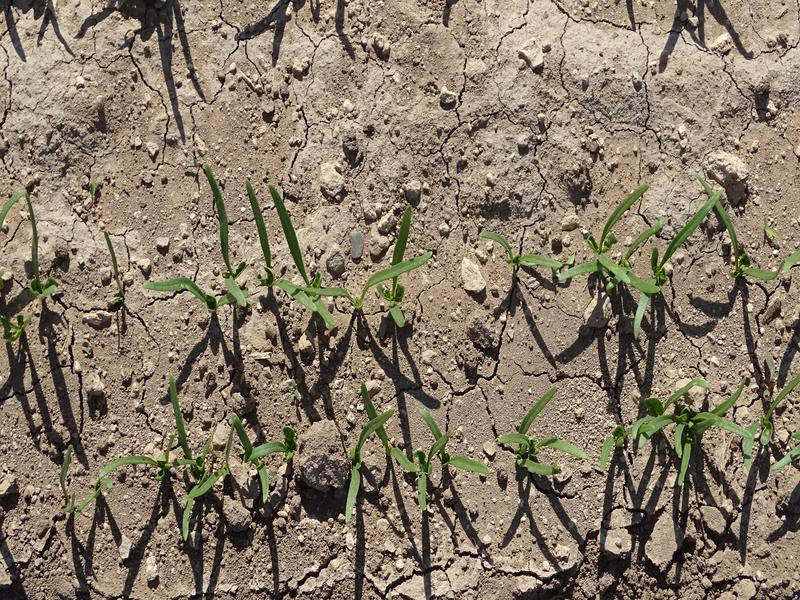Espinaca: (159, 169, 420, 331), (489, 191, 783, 327), (108, 392, 297, 536), (611, 381, 796, 475), (344, 406, 485, 518), (502, 398, 581, 480), (11, 203, 69, 295)
